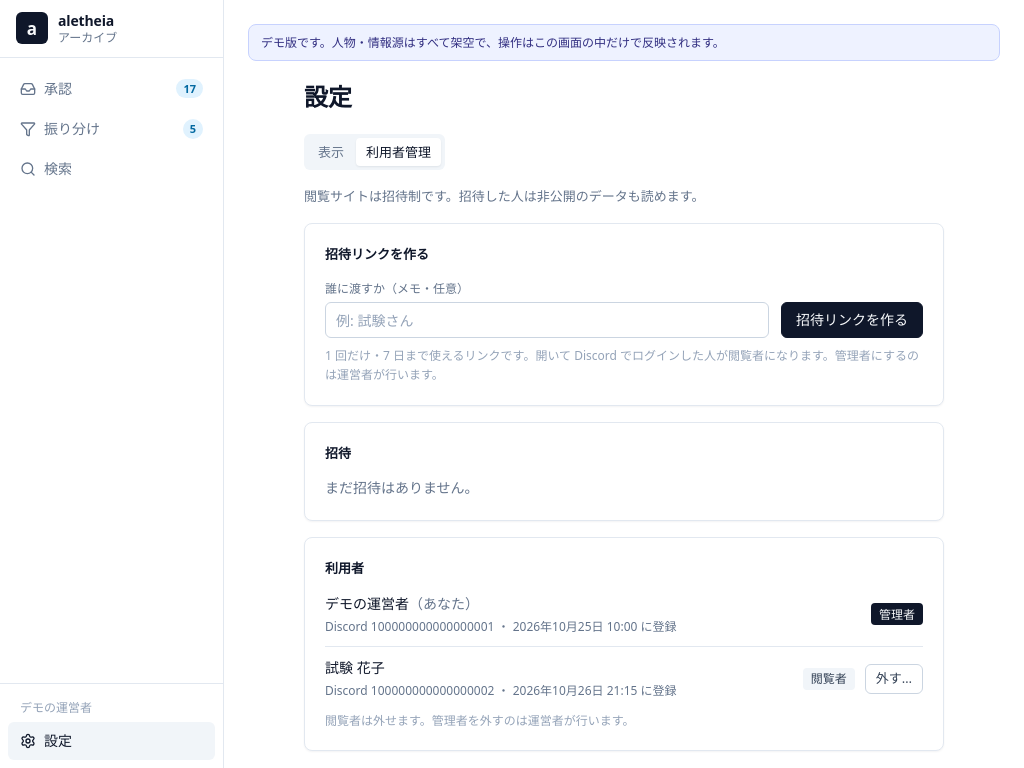
Test: 招待リンク › 使われる前の招待は取り消せる
The width and height of the screenshot is (1024, 768).
What coordinates should you click on to do the following:
click the button "招待リンクを作る"
I would click on:
 (852, 320)
Its box is [781,302,923,338].
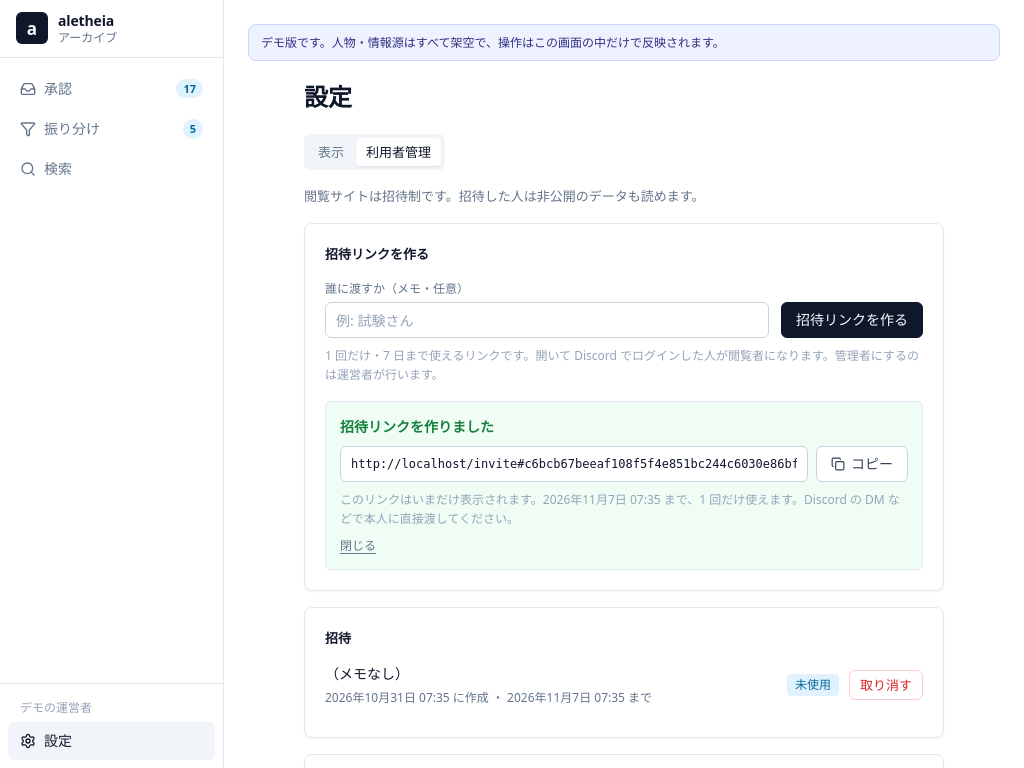
What coordinates should you click on to do the following:
click the button "取り消す"
I would click on:
 (886, 685)
Its box is [849,670,923,700].
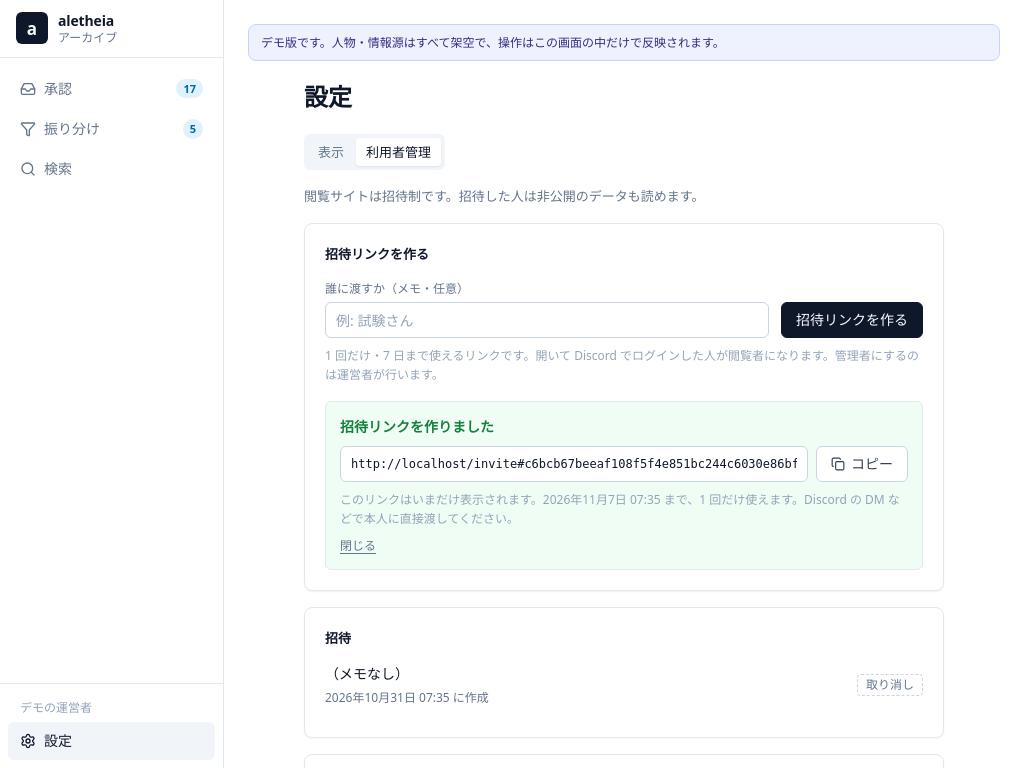
Result: the text "取り消し" is shown at [857,674,923,696]
Result: the button "取り消す" is gone
